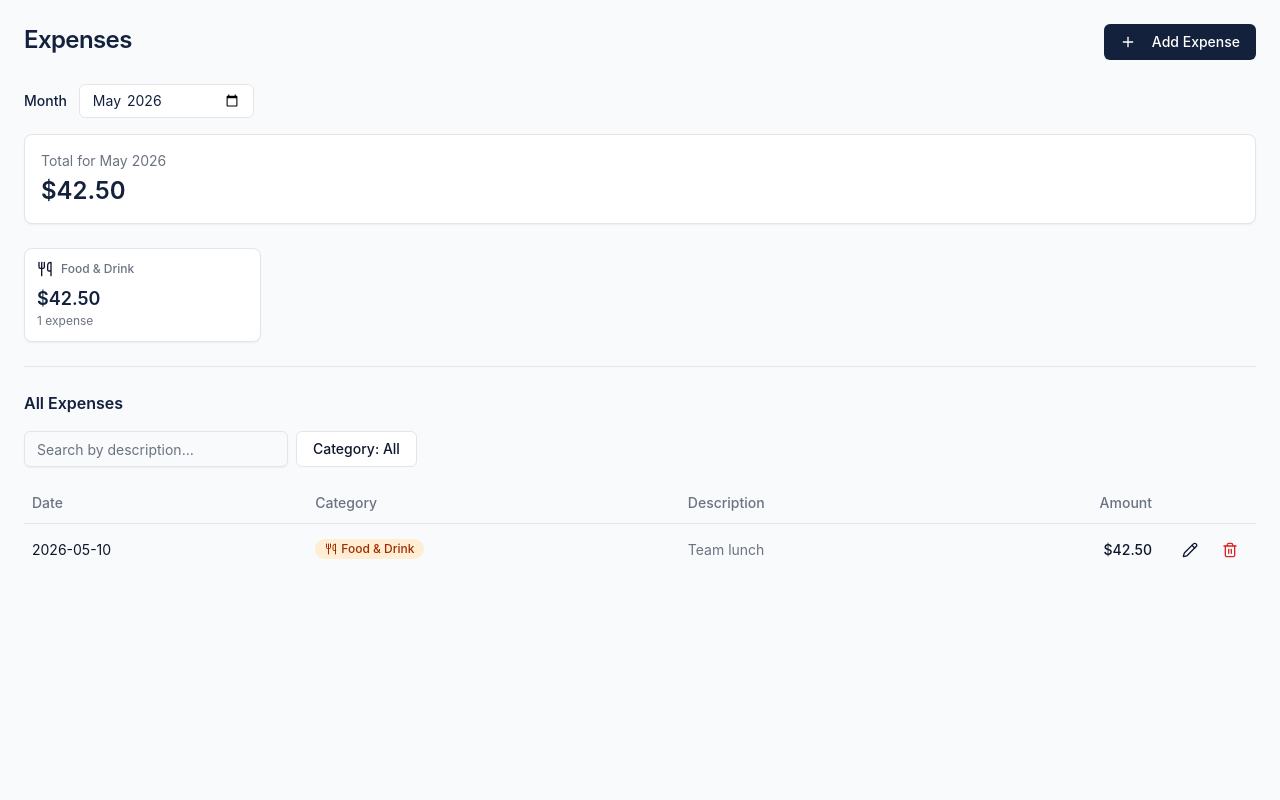
Test case: ExpensesPage › opens edit form pre-populated when edit button clicked
Click the button with test id "btn-edit-exp-uuid-1".
click(1190, 550)  # box [1172,532,1208,568]
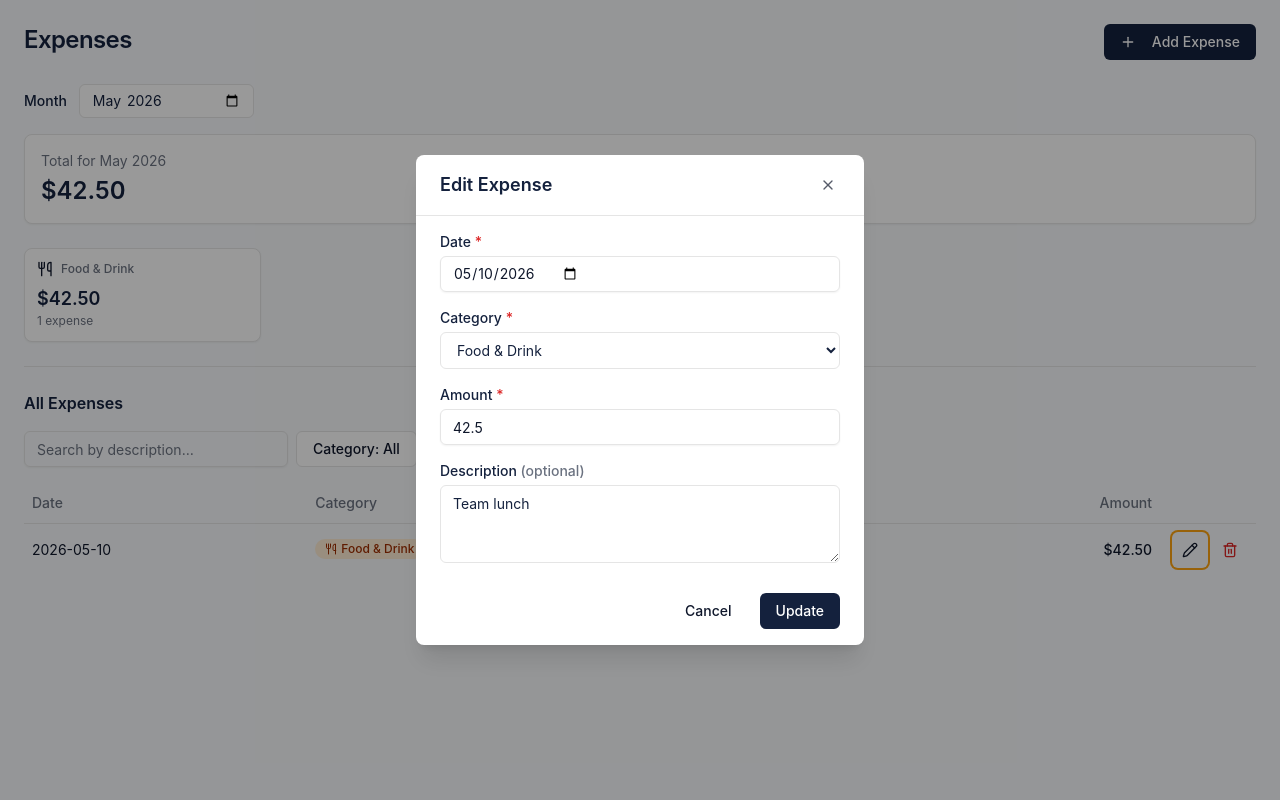
Now the dialog with test id "expense-form-sheet" is shown, box [416,155,864,645]
Now the heading "Edit Expense" is shown, box [440,171,552,199]
